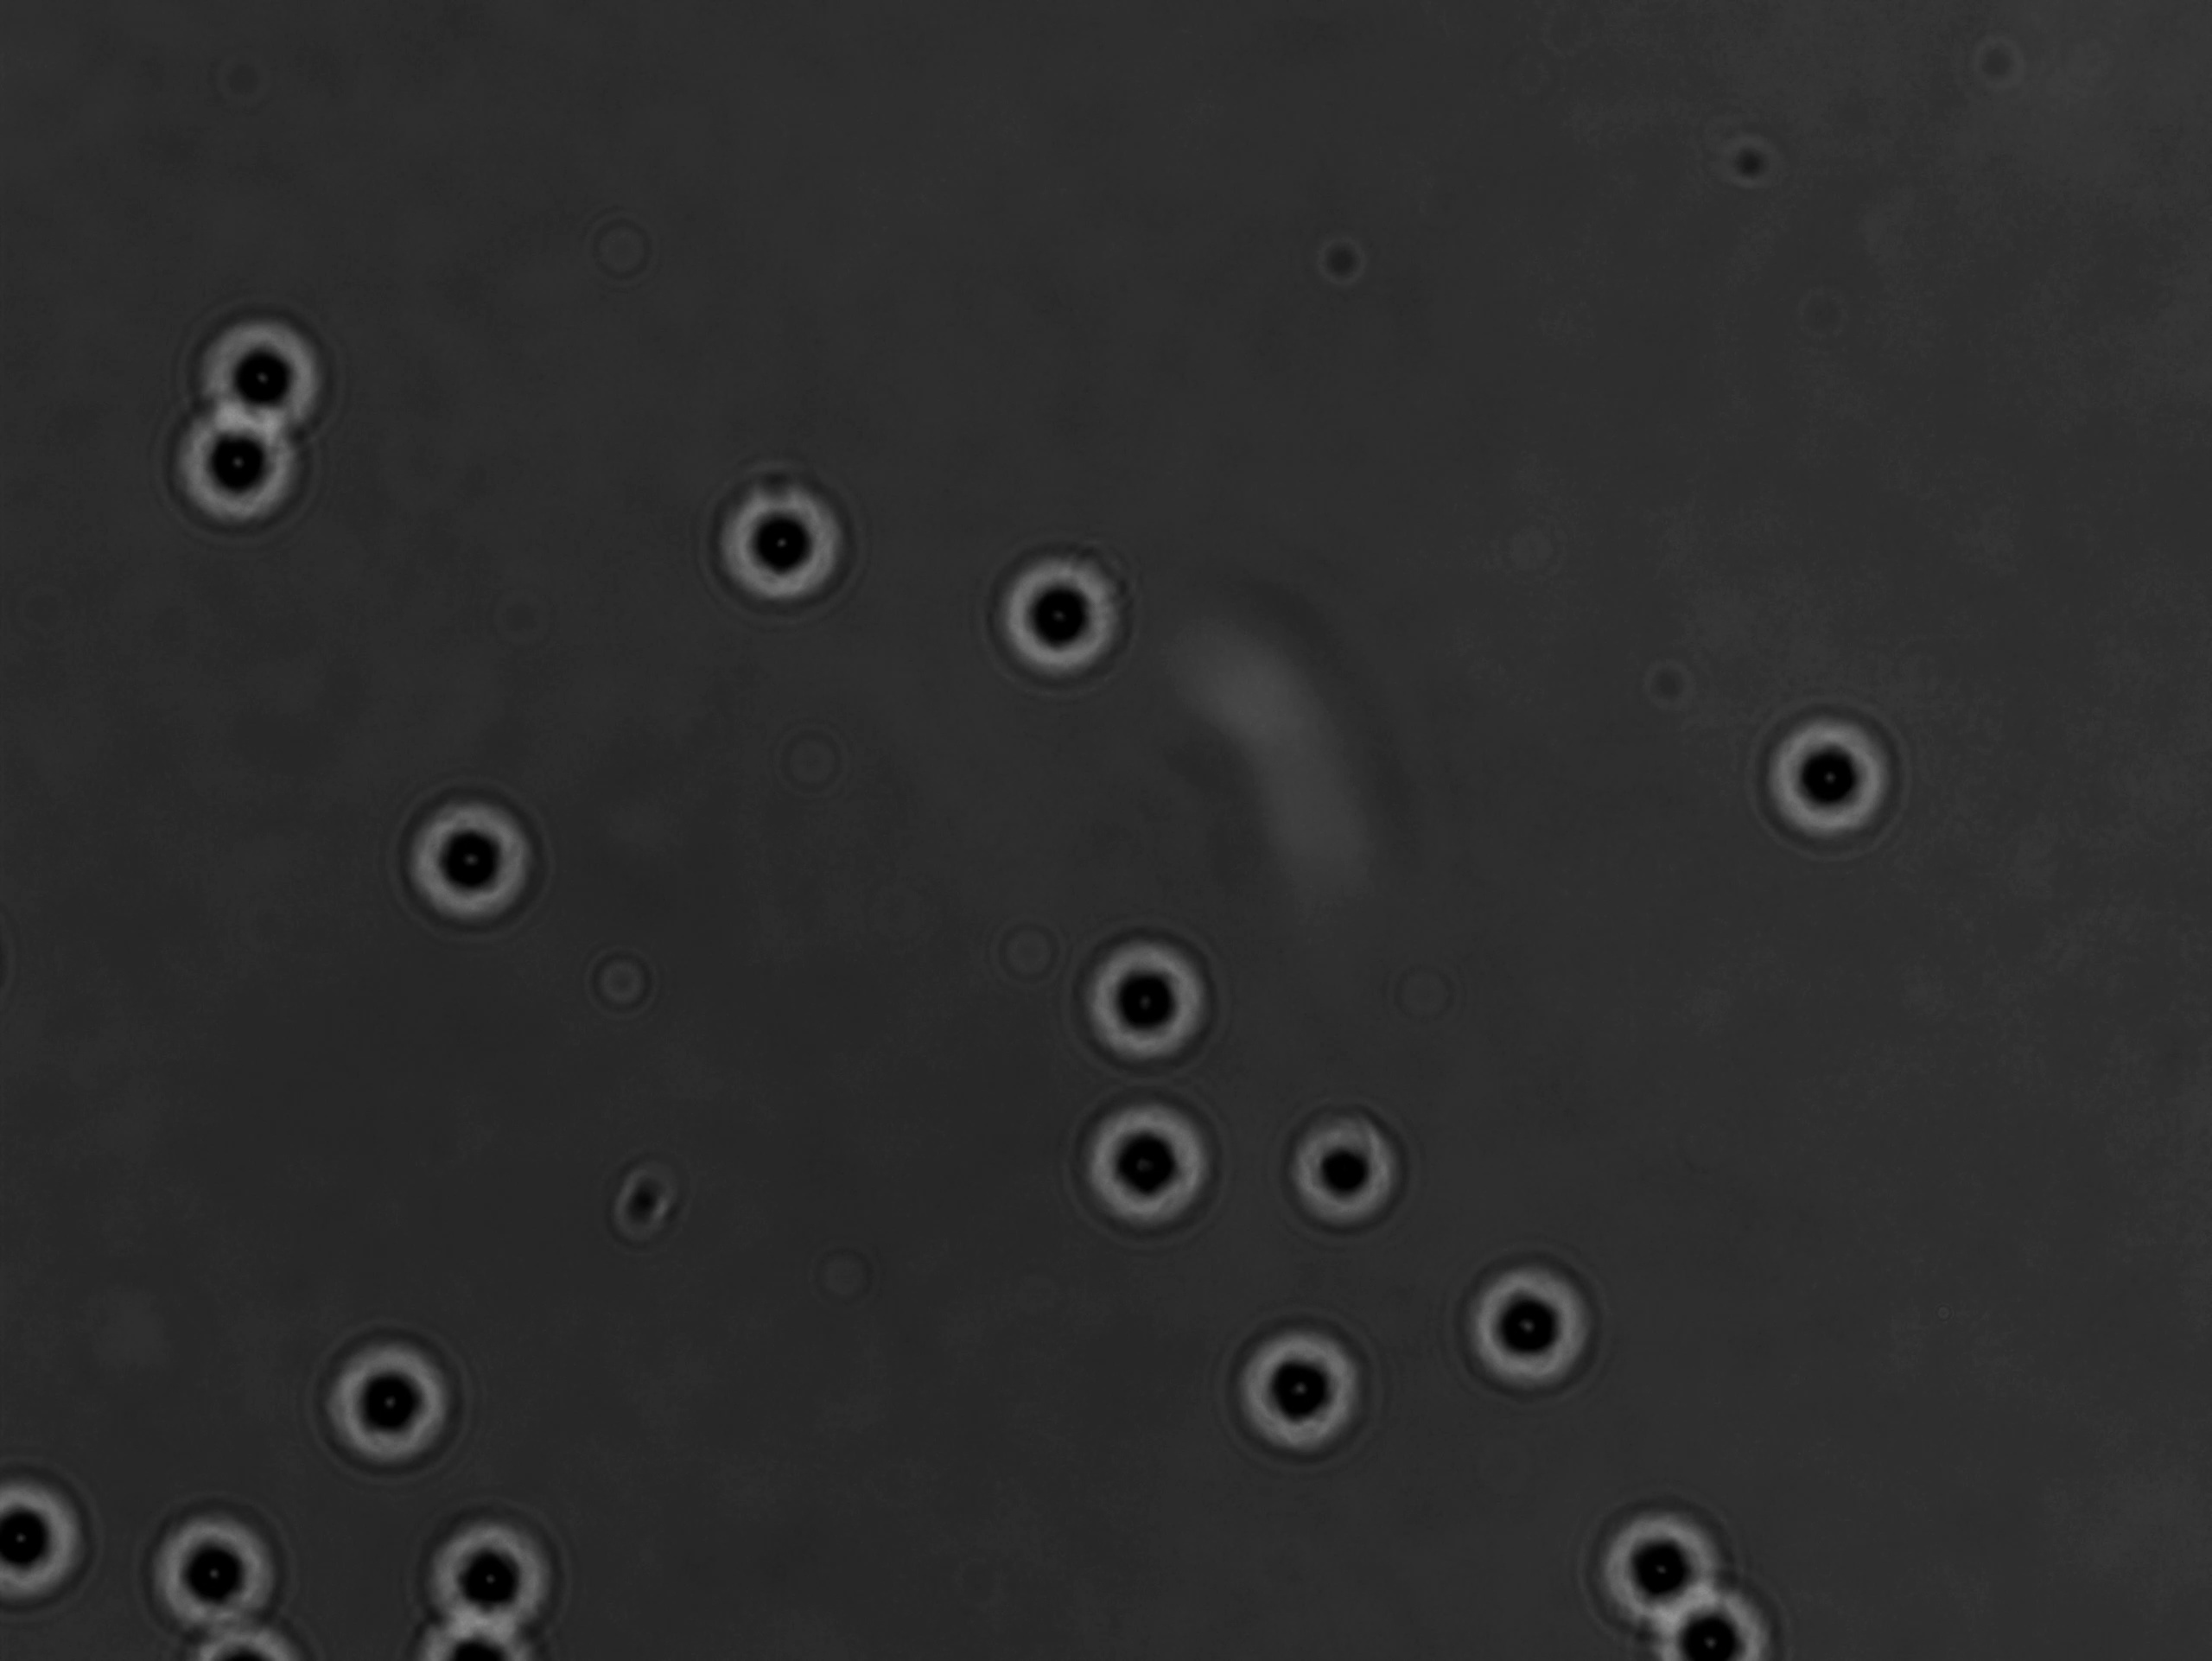depth:-20: (148, 377, 333, 546), (379, 764, 550, 942), (298, 1309, 473, 1478), (1062, 1080, 1233, 1246), (696, 459, 865, 625), (973, 539, 1137, 705), (1750, 705, 1919, 865), (1225, 1309, 1389, 1473), (187, 293, 345, 455), (399, 1509, 563, 1654), (1450, 1247, 1600, 1401), (138, 1494, 291, 1642), (1266, 1096, 1413, 1251), (1071, 914, 1225, 1061), (1575, 1490, 1729, 1637)
